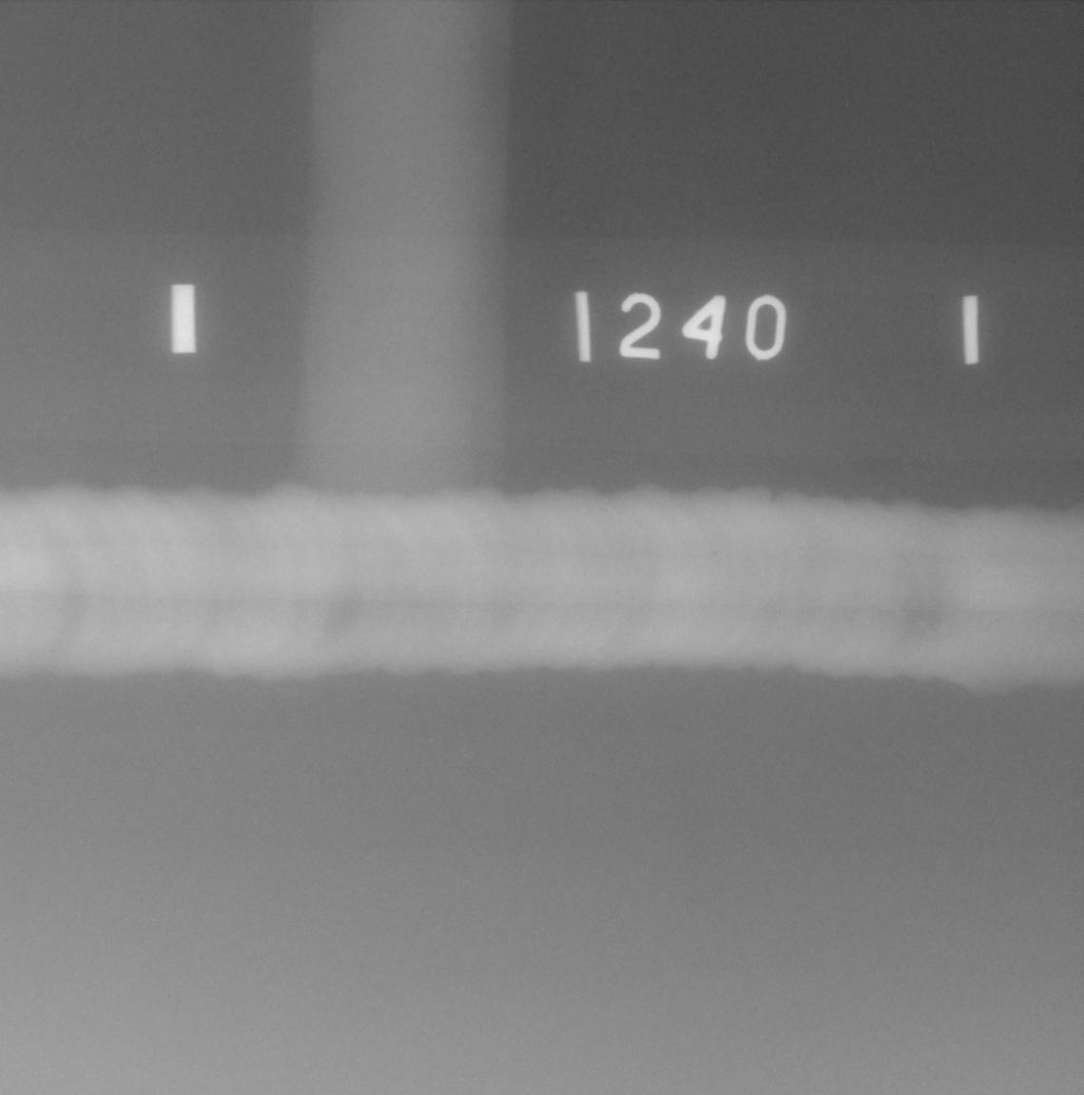Pore/Porosity: (713, 552, 717, 556)
